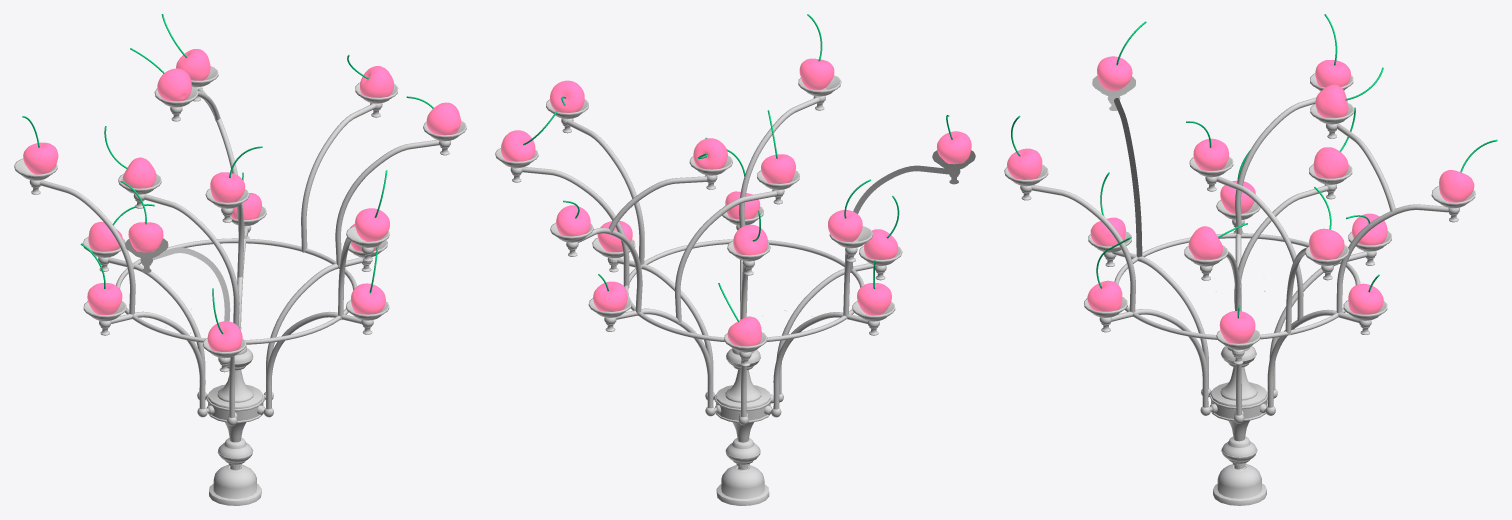
Rendered from lamp.glb.
3 views of the same model, side by side, from view 1: azimuth 30°, elevation 25°; view 2: azimuth 150°, elevation 25°; view 3: azimuth 270°, elevation 25° (orthographic). The views are drawn at different scales.
Visible parts, largest first — view 1: SAN-ZW-2-OBJ.374, SAN-ZW-2-OBJ.299, SAN-ZW-2-OBJ.316, SAN-ZW-2-OBJ.386, SAN-ZW-2-OBJ.261, SAN-ZW-2-OBJ.360, SAN-ZW-2-OBJ.364, SAN-ZW-2-OBJ.258, SAN-ZW-2-OBJ.351, SAN-ZW-2-OBJ.257, SAN-ZW-2-OBJ.355, SAN-ZW-2-OBJ.013 (+4 smaller); view 2: SAN-ZW-2-OBJ.374, SAN-ZW-2-OBJ.387, SAN-ZW-2-OBJ.360, SAN-ZW-2-OBJ.351, SAN-ZW-2-OBJ.261, SAN-ZW-2-OBJ.386, SAN-ZW-2-OBJ.364, SAN-ZW-2-OBJ.013, SAN-ZW-2-OBJ.311, SAN-ZW-2-OBJ.316, SAN-ZW-2-OBJ.362, SAN-ZW-2-OBJ.265 (+6 smaller); view 3: SAN-ZW-2-OBJ.374, SAN-ZW-2-OBJ.387, SAN-ZW-2-OBJ.299, SAN-ZW-2-OBJ.304, SAN-ZW-2-OBJ.351, SAN-ZW-2-OBJ.270, SAN-ZW-2-OBJ.355, SAN-ZW-2-OBJ.311, SAN-ZW-2-OBJ.013, SAN-ZW-2-OBJ.386, SAN-ZW-2-OBJ.362, SAN-ZW-2-OBJ.265 (+7 smaller).
Boxes of the visible parts, left/top/right/bottom form: SAN-ZW-2-OBJ.374: left=108, top=66, right=466, bottom=505; SAN-ZW-2-OBJ.299: left=40, top=180, right=135, bottom=314; SAN-ZW-2-OBJ.316: left=157, top=68, right=191, bottom=101; SAN-ZW-2-OBJ.386: left=355, top=208, right=389, bottom=241; SAN-ZW-2-OBJ.261: left=87, top=283, right=122, bottom=315; SAN-ZW-2-OBJ.360: left=426, top=102, right=460, bottom=135; SAN-ZW-2-OBJ.364: left=23, top=142, right=58, bottom=174; SAN-ZW-2-OBJ.258: left=350, top=283, right=385, bottom=314; SAN-ZW-2-OBJ.351: left=128, top=222, right=163, bottom=252; SAN-ZW-2-OBJ.257: left=207, top=321, right=242, bottom=351; SAN-ZW-2-OBJ.355: left=210, top=172, right=245, bottom=202; SAN-ZW-2-OBJ.013: left=360, top=66, right=393, bottom=97; SAN-ZW-2-OBJ.374: left=495, top=99, right=877, bottom=505; SAN-ZW-2-OBJ.387: left=739, top=97, right=819, bottom=227; SAN-ZW-2-OBJ.360: left=550, top=80, right=584, bottom=112; SAN-ZW-2-OBJ.351: left=937, top=131, right=971, bottom=164; SAN-ZW-2-OBJ.261: left=857, top=283, right=891, bottom=315; SAN-ZW-2-OBJ.386: left=799, top=58, right=834, bottom=90; SAN-ZW-2-OBJ.364: left=828, top=210, right=862, bottom=242; SAN-ZW-2-OBJ.013: left=501, top=130, right=535, bottom=161; SAN-ZW-2-OBJ.311: left=556, top=205, right=590, bottom=236; SAN-ZW-2-OBJ.316: left=693, top=138, right=727, bottom=169; SAN-ZW-2-OBJ.362: left=733, top=224, right=767, bottom=255; SAN-ZW-2-OBJ.265: left=593, top=281, right=627, bottom=311; SAN-ZW-2-OBJ.374: left=1112, top=103, right=1475, bottom=505; SAN-ZW-2-OBJ.387: left=1032, top=185, right=1135, bottom=316; SAN-ZW-2-OBJ.299: left=1235, top=97, right=1316, bottom=235; SAN-ZW-2-OBJ.304: left=1114, top=98, right=1142, bottom=257; SAN-ZW-2-OBJ.351: left=1097, top=56, right=1132, bottom=90; SAN-ZW-2-OBJ.270: left=1219, top=311, right=1255, bottom=343; SAN-ZW-2-OBJ.355: left=1193, top=138, right=1228, bottom=170; SAN-ZW-2-OBJ.311: left=1439, top=170, right=1474, bottom=202; SAN-ZW-2-OBJ.013: left=1309, top=228, right=1344, bottom=259; SAN-ZW-2-OBJ.386: left=1007, top=148, right=1042, bottom=179; SAN-ZW-2-OBJ.362: left=1313, top=147, right=1348, bottom=178; SAN-ZW-2-OBJ.265: left=1348, top=283, right=1383, bottom=314.
Bounding box in the file's own units: 19.73 × 19.8 × 21.56.
